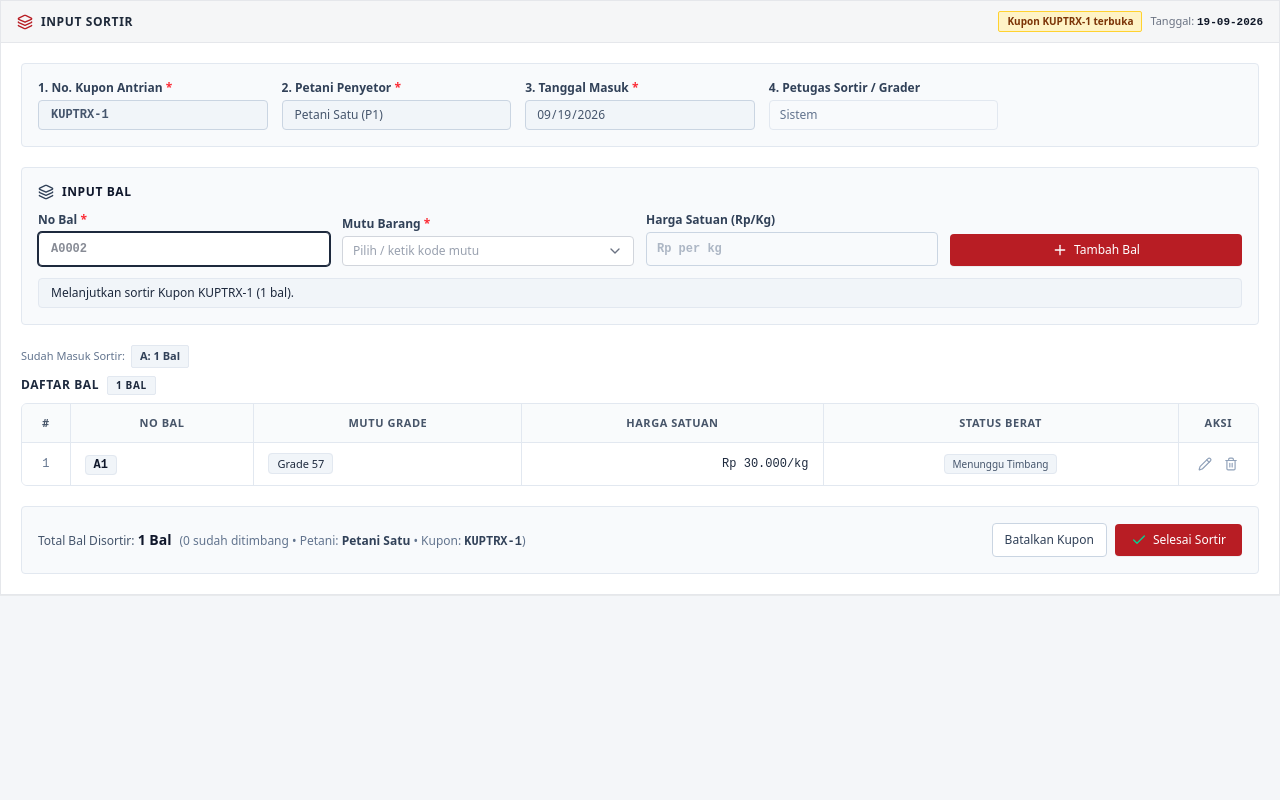
Test: Sortir: hapus bal › bal yang ternyata sudah ditimbang di komputer lain tidak ikut terhapus
The image size is (1280, 800).
Click the button titled "Hapus bal ini dari kupon".
click(1231, 464)  # box [1220,454,1242,476]
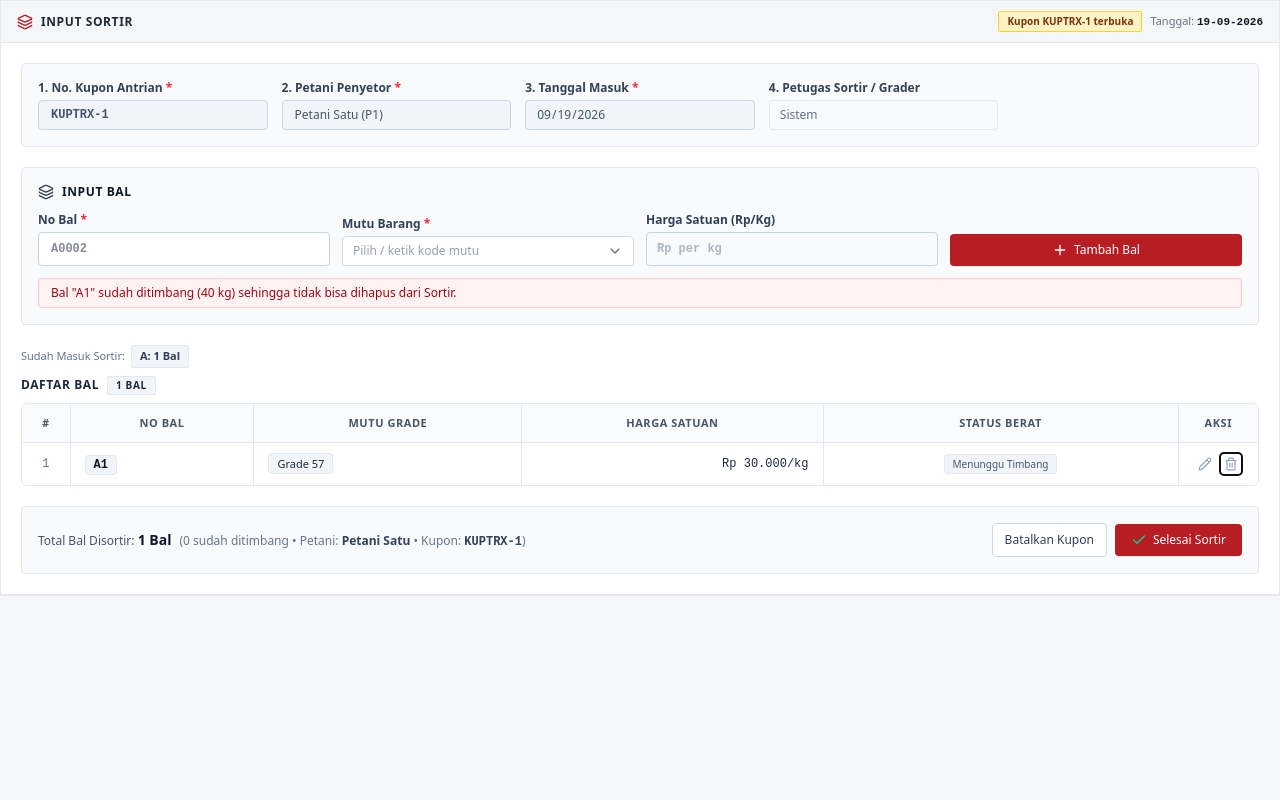
Expected: the text "sudah ditimbang (40 kg) sehingga tidak bisa dihapus" is shown, [51,284,456,301]
